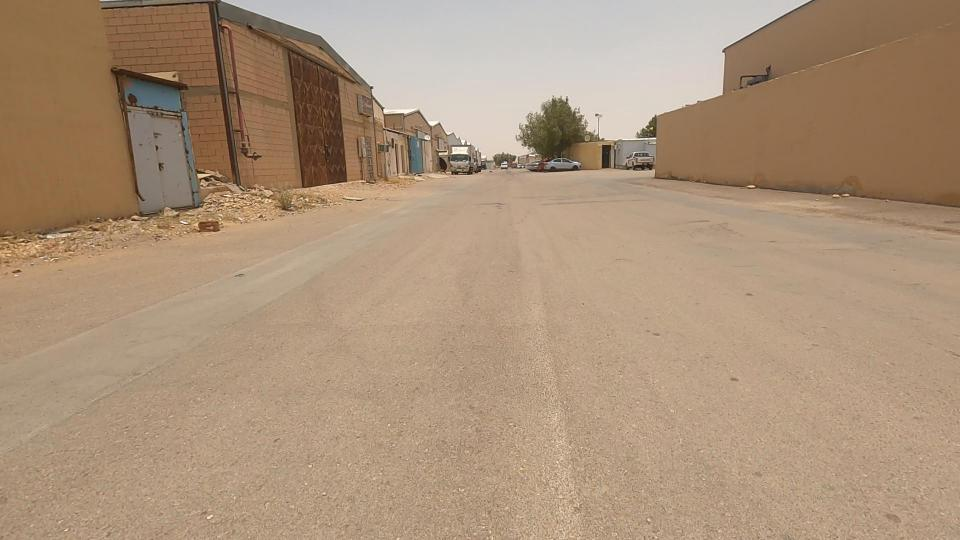GARBAGE: (162, 194, 249, 263), (314, 171, 393, 221)
